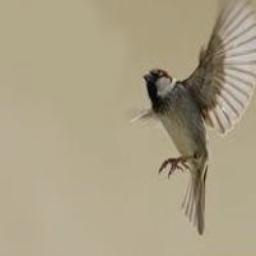Sparrow: (131, 0, 256, 234)
